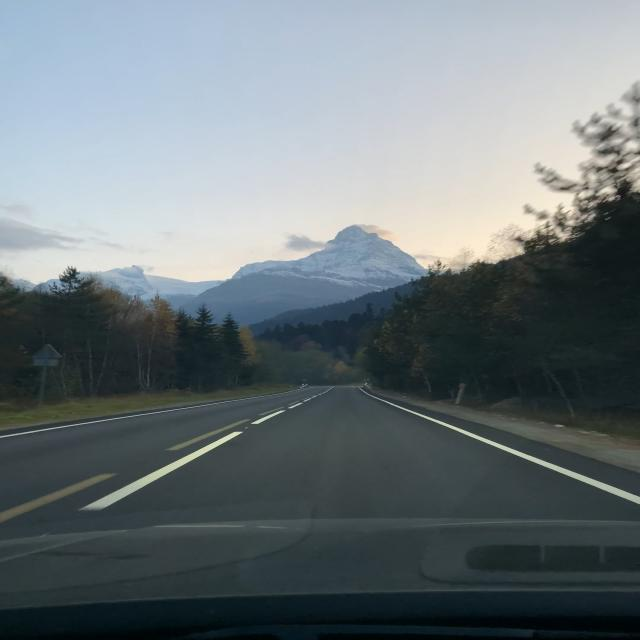asphalt: (0, 386, 640, 540)
grass: (384, 391, 640, 446), (0, 385, 296, 429)
